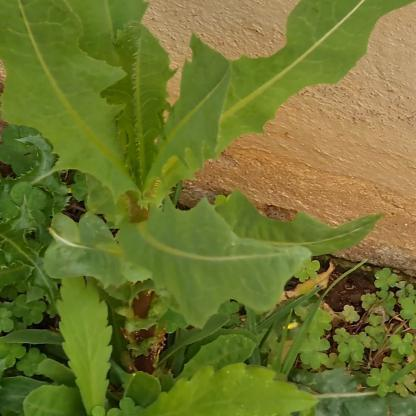Weeds: (1, 0, 415, 332), (0, 270, 318, 415), (0, 122, 72, 338)
